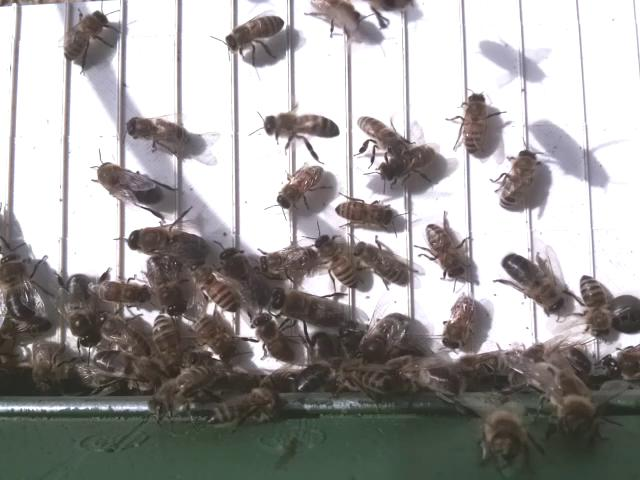Drone: (500, 249, 566, 316), (270, 284, 349, 332), (122, 223, 213, 264), (60, 271, 106, 351), (93, 159, 166, 208), (0, 249, 42, 323)
Worker: (350, 239, 411, 286), (124, 113, 193, 154), (262, 109, 342, 144), (220, 12, 285, 55), (314, 230, 359, 291), (272, 162, 328, 211), (424, 220, 468, 280), (497, 148, 537, 213), (190, 266, 242, 315), (61, 10, 109, 63), (374, 148, 439, 186), (576, 271, 610, 343), (257, 242, 320, 279), (334, 195, 397, 230), (440, 296, 478, 353), (355, 113, 408, 153), (460, 90, 490, 157)
